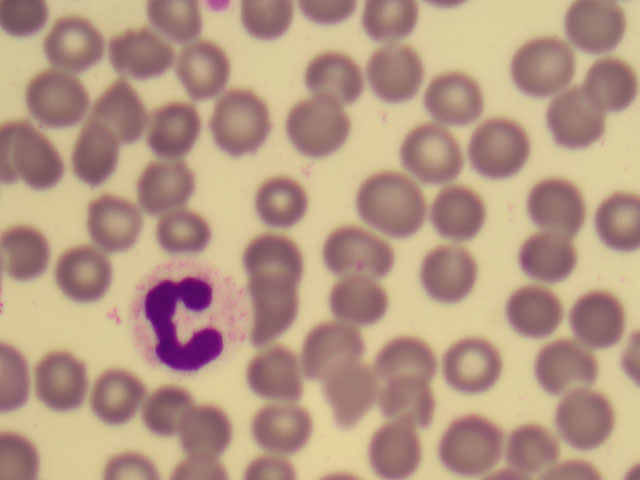RBC: (45, 18, 107, 75), (27, 71, 89, 128), (9, 133, 71, 190), (59, 123, 121, 180), (94, 83, 156, 140), (108, 28, 170, 85), (169, 41, 231, 98), (144, 100, 206, 157), (131, 157, 193, 214), (152, 203, 214, 260), (91, 195, 153, 252), (53, 247, 115, 304), (2, 231, 64, 288), (86, 361, 148, 418), (34, 357, 96, 414), (137, 381, 199, 438), (171, 405, 233, 462), (252, 396, 314, 453), (243, 346, 305, 403), (250, 276, 312, 333), (242, 229, 304, 286), (246, 174, 308, 231), (211, 89, 273, 146), (284, 98, 346, 155), (308, 56, 370, 113), (364, 47, 426, 104), (428, 70, 490, 127), (404, 126, 466, 183), (361, 170, 423, 227), (322, 222, 384, 279), (335, 278, 397, 335), (305, 318, 367, 375), (327, 364, 389, 421), (377, 329, 439, 386), (376, 374, 438, 431), (363, 419, 425, 476), (441, 338, 503, 395), (442, 419, 504, 476), (418, 245, 480, 302), (424, 184, 486, 241), (466, 122, 528, 179), (509, 37, 571, 94), (578, 51, 640, 108), (548, 89, 610, 146), (578, 200, 640, 257), (535, 179, 597, 236), (512, 230, 574, 287), (503, 281, 565, 338), (568, 285, 630, 342), (541, 341, 603, 398), (558, 382, 620, 439), (514, 416, 576, 473), (565, 1, 627, 57), (237, 1, 294, 39)
WBC: (125, 258, 246, 373)
